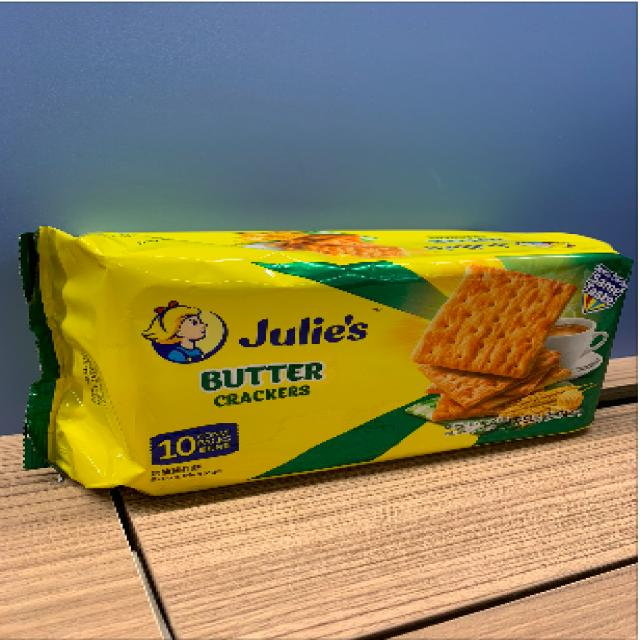object_name: (38, 239, 594, 462)
